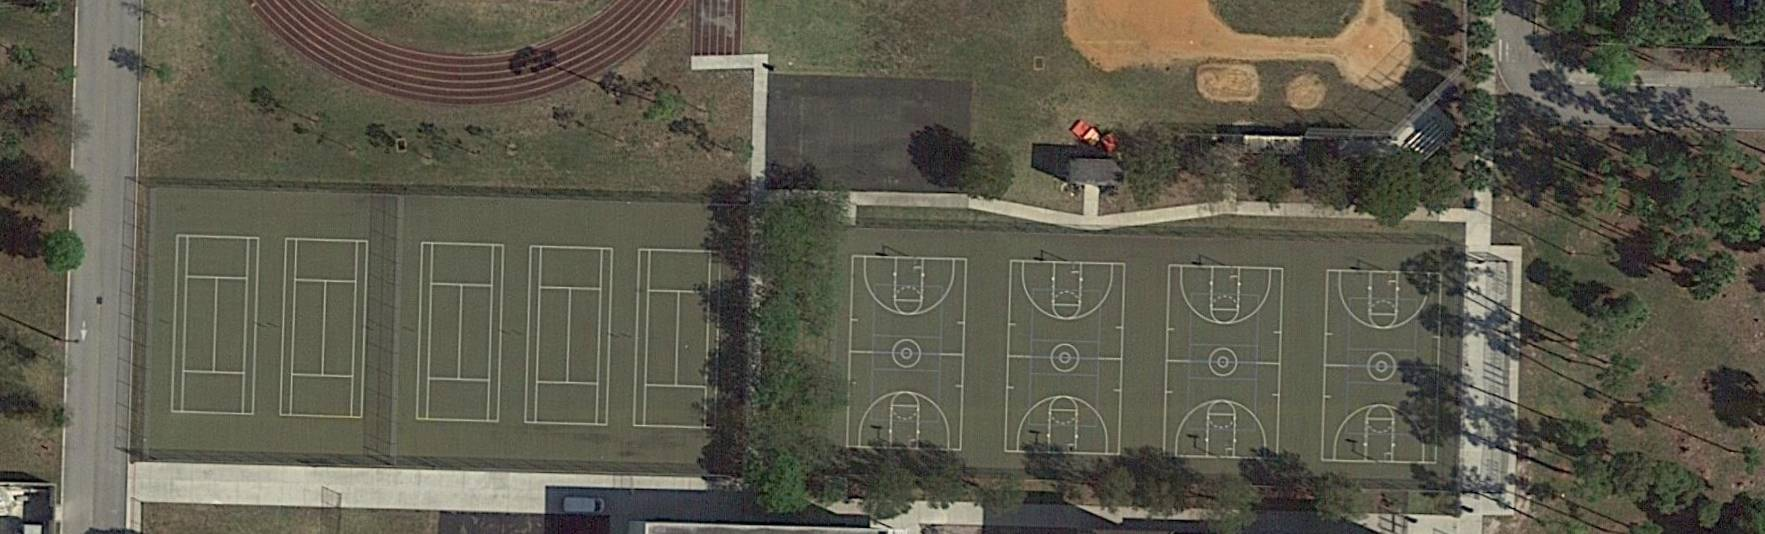basketball court: (1004, 261, 1128, 456), (1321, 270, 1443, 464), (1163, 266, 1284, 461), (847, 256, 968, 450)
tennis court: (523, 245, 615, 427), (279, 238, 370, 419), (416, 243, 506, 423), (633, 249, 722, 429), (171, 236, 260, 416)
